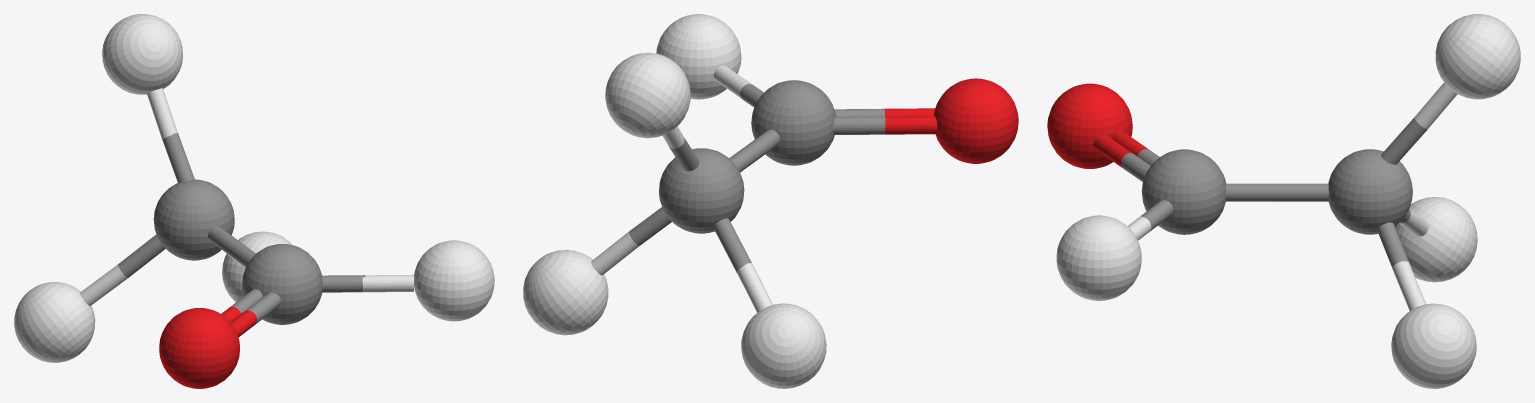
The model's file is acetaldehyde.fbx.
3 views of the same model, side by side, from view 1: azimuth 30°, elevation 25°; view 2: azimuth 150°, elevation 25°; view 3: azimuth 270°, elevation 25° (orthographic). The views are drawn at different scales.
Visible parts, largest first — view 1: Sphere.002, Sphere.010, Sphere.006, Sphere.001, Sphere.005, Sphere.004, Sphere.003, Cylinder.008, Cylinder.004, Cylinder.011, Cylinder.012, Cylinder.009 (+4 smaller); view 2: Sphere.006, Sphere.001, Sphere.010, Sphere.003, Sphere.004, Sphere.005, Sphere.002, Cylinder.001, Cylinder.000, Cylinder.004, Cylinder.014, Cylinder.009 (+5 smaller); view 3: Sphere.002, Sphere.006, Sphere.003, Sphere.005, Sphere.004, Sphere.010, Sphere.001, Cylinder.010, Cylinder.007, Cylinder.011, Cylinder.014, Cylinder.012 (+6 smaller).
Boxes of the visible parts, box(x1,y1,x2,y2) form: Sphere.002: box(414, 240, 494, 321); Sphere.010: box(159, 308, 239, 388); Sphere.006: box(102, 14, 182, 94); Sphere.001: box(14, 282, 95, 362); Sphere.005: box(153, 179, 234, 260); Sphere.004: box(242, 244, 322, 324); Sphere.003: box(222, 231, 292, 302); Cylinder.008: box(362, 274, 413, 292); Cylinder.004: box(118, 234, 165, 277); Cylinder.011: box(162, 133, 194, 182); Cylinder.012: box(147, 88, 177, 139); Cylinder.009: box(80, 264, 127, 305); Sphere.006: box(605, 52, 690, 138); Sphere.001: box(741, 303, 826, 388); Sphere.010: box(934, 78, 1018, 163); Sphere.003: box(523, 249, 608, 335); Sphere.004: box(751, 80, 836, 165); Sphere.005: box(659, 148, 744, 233); Sphere.002: box(656, 14, 741, 99); Cylinder.001: box(885, 116, 937, 134); Cylinder.000: box(833, 116, 885, 134); Cylinder.004: box(713, 218, 751, 272); Cylinder.014: box(591, 231, 639, 275); Cylinder.009: box(737, 263, 772, 312); Sphere.002: box(1056, 215, 1141, 300); Sphere.006: box(1435, 14, 1520, 99); Sphere.003: box(1391, 303, 1476, 388); Sphere.005: box(1328, 149, 1412, 234); Sphere.004: box(1141, 149, 1226, 234); Sphere.010: box(1047, 83, 1132, 168); Sphere.001: box(1395, 197, 1477, 282); Cylinder.010: box(1275, 183, 1328, 201); Cylinder.007: box(1226, 183, 1275, 201); Cylinder.011: box(1381, 117, 1427, 164); Cylinder.014: box(1392, 261, 1425, 310); Cylinder.012: box(1414, 82, 1457, 128).
Bounding box in the file's own units: 70.98 × 61.84 × 83.93.
